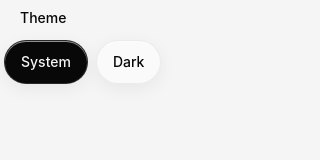
it: Settings controls › selects only the requested option
Click the radio button labelled "Dark" at (129,62), box [96,40,161,84]
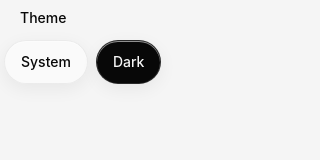
Expected: the radio button labelled "Dark" is checked, [96,40,161,84]
Expected: the radio button labelled "System" is not checked, [4,40,88,84]
